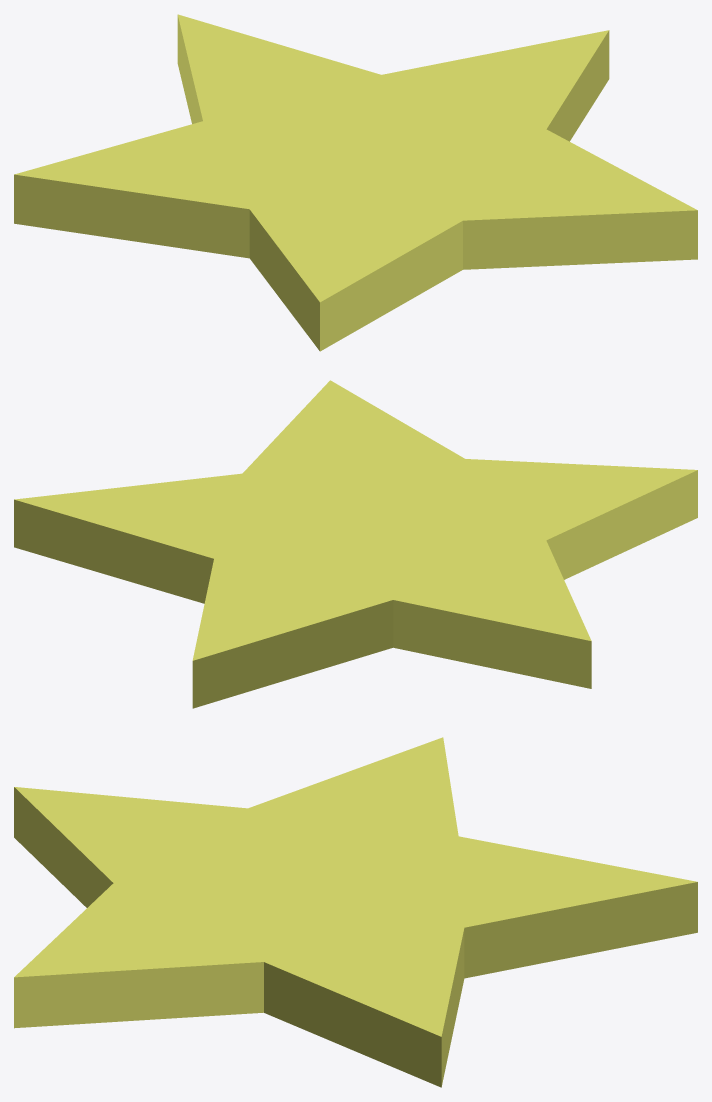
File: star.glb
3 renders of one model, top to bottom at view 1: azimuth 30°, elevation 25°; view 2: azimuth 150°, elevation 25°; view 3: azimuth 270°, elevation 25°, orthographic. The views are drawn at different scales.
Visible parts, largest first — view 1: Cube; view 2: Cube; view 3: Cube.
Boxes of the visible parts, x1,y1,x2,y2 form: Cube: [14, 14, 697, 351]; Cube: [14, 380, 697, 708]; Cube: [14, 737, 697, 1087].
Size of the model in its own units: 1.03 by 0.0815 by 0.9939.
